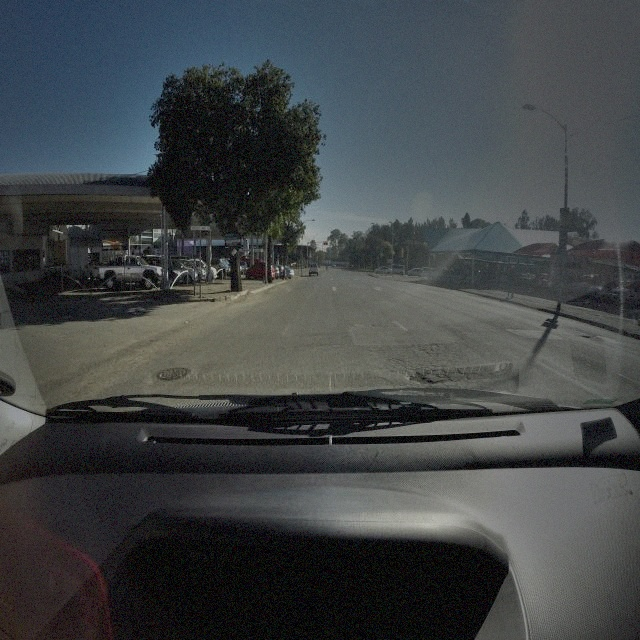pothole: (408, 368, 432, 384)
